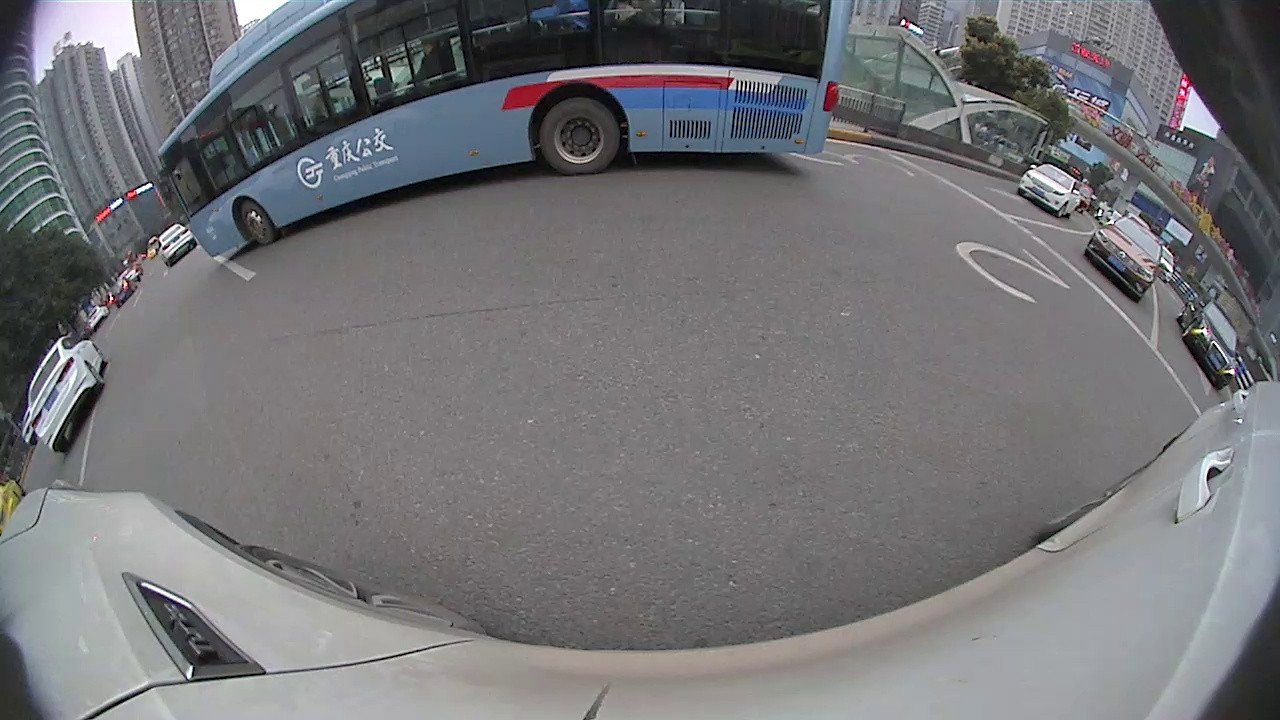bus: (152, 0, 858, 265)
car: (23, 332, 108, 455), (1084, 213, 1165, 303), (1178, 298, 1239, 390), (1017, 161, 1083, 220), (158, 222, 198, 268), (0, 474, 28, 533)
front: (235, 200, 278, 248), (1177, 320, 1200, 339), (1054, 203, 1071, 219)
rear: (536, 102, 623, 179), (81, 361, 110, 391)
